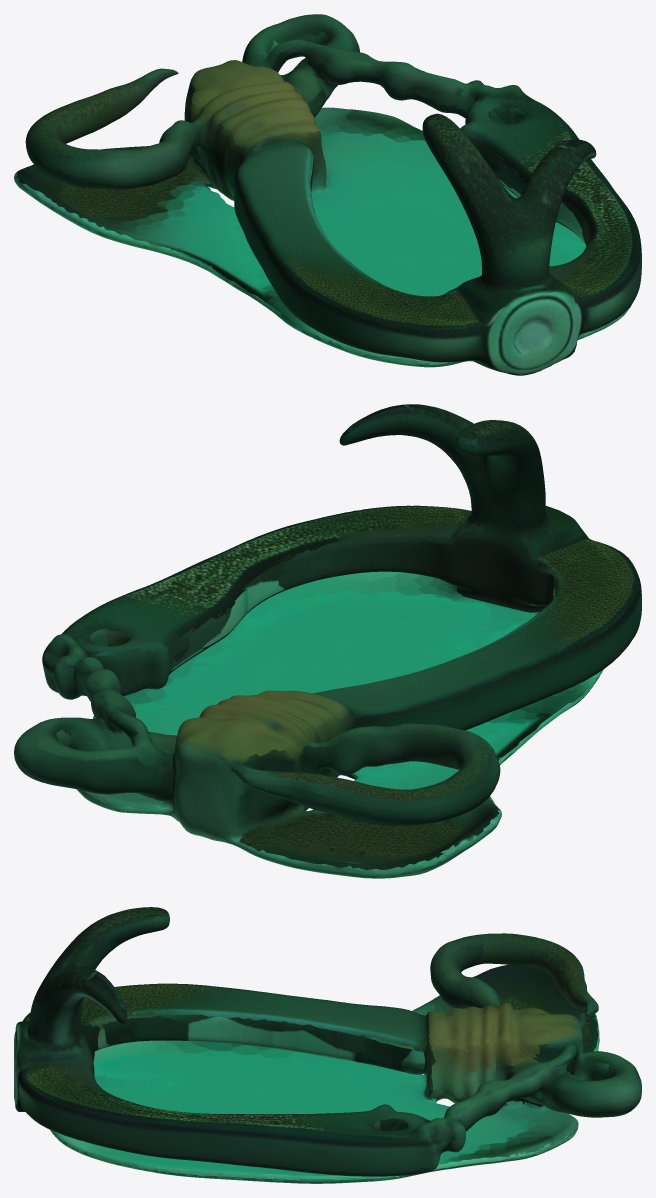
The model's file is item-explorer-grapple-mesh.glb.
3 views of the same model, one above another, from view 1: azimuth 30°, elevation 25°; view 2: azimuth 150°, elevation 25°; view 3: azimuth 270°, elevation 25° (orthographic). The views are drawn at different scales.
Visible parts, largest first — view 1: tmpxqbvewhf.ply; view 2: tmpxqbvewhf.ply; view 3: tmpxqbvewhf.ply.
Boxes of the visible parts, bbox=[...] form: tmpxqbvewhf.ply: bbox=[14, 14, 641, 375]; tmpxqbvewhf.ply: bbox=[14, 404, 641, 878]; tmpxqbvewhf.ply: bbox=[14, 907, 641, 1183].
Bounding box in the file's own units: 0.7448 × 0.3276 × 0.9879.
1 material, 1 textured.
